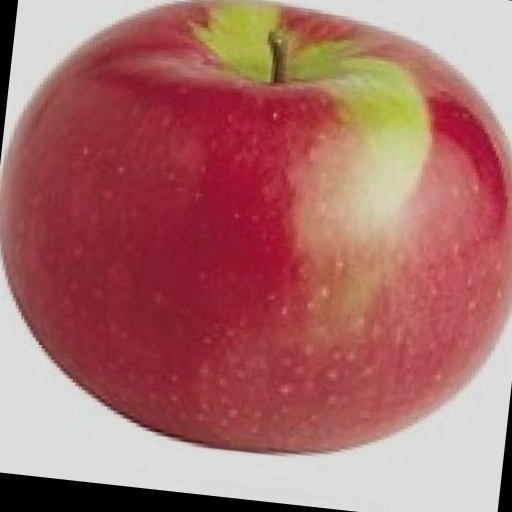fruit: (0, 0, 512, 451)
